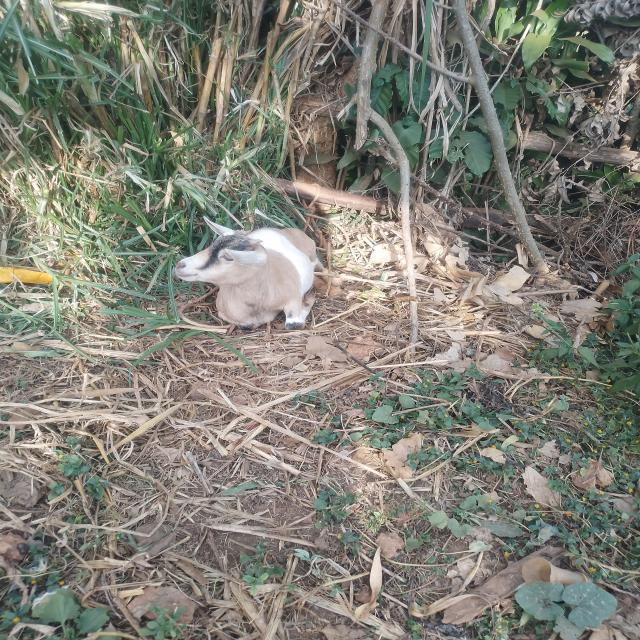goat: (126, 185, 377, 361)
